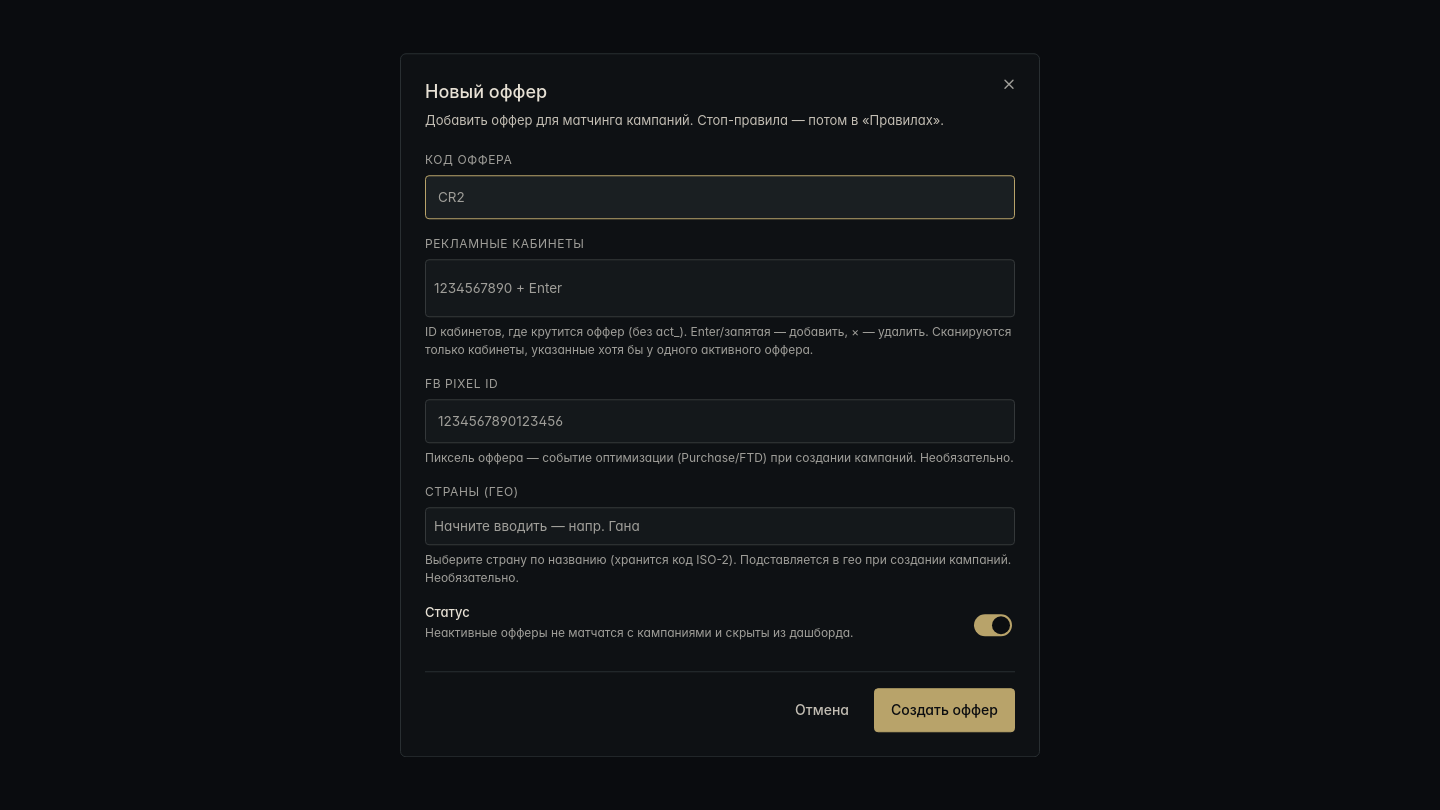
Test: OfferFormModal — создание › показывает ошибку при пустом коде
Не вводим ничего, сразу жмём создать
Click the button "Создать оффер" at (944, 710), box [874, 688, 1015, 732]
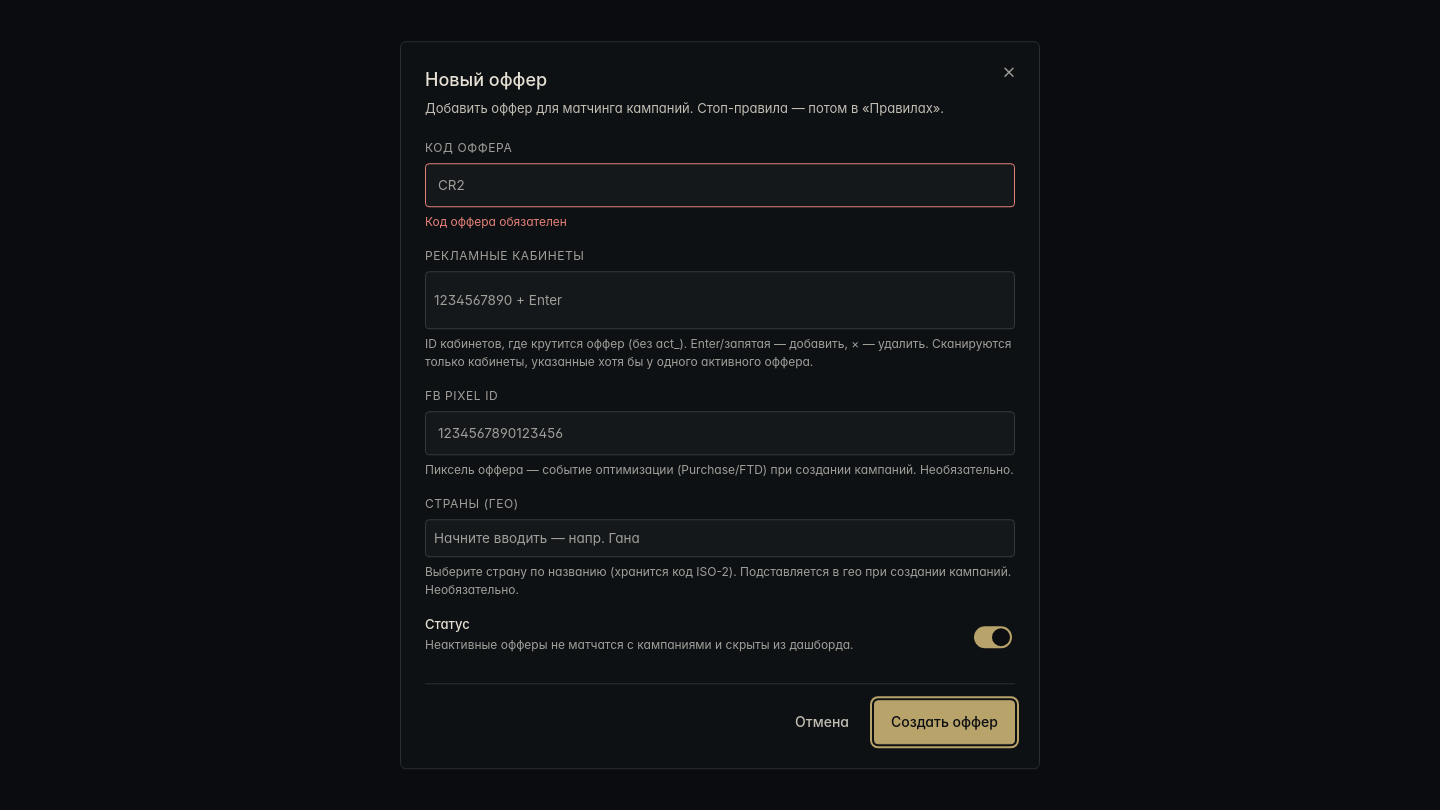
Expected: the text "Код оффера обязателен" is shown, [425, 214, 567, 229]
